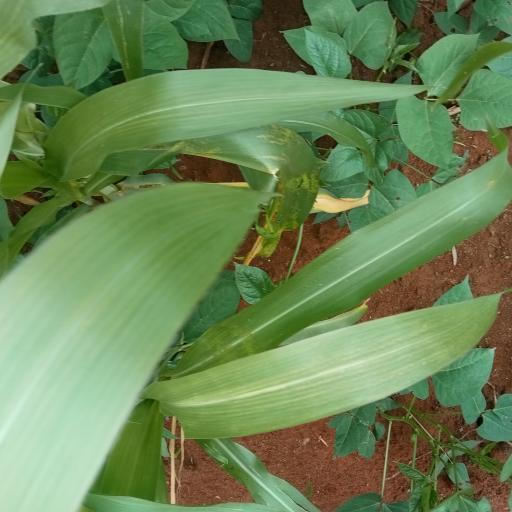Corn_Brown_Spots: (158, 298, 497, 444)
